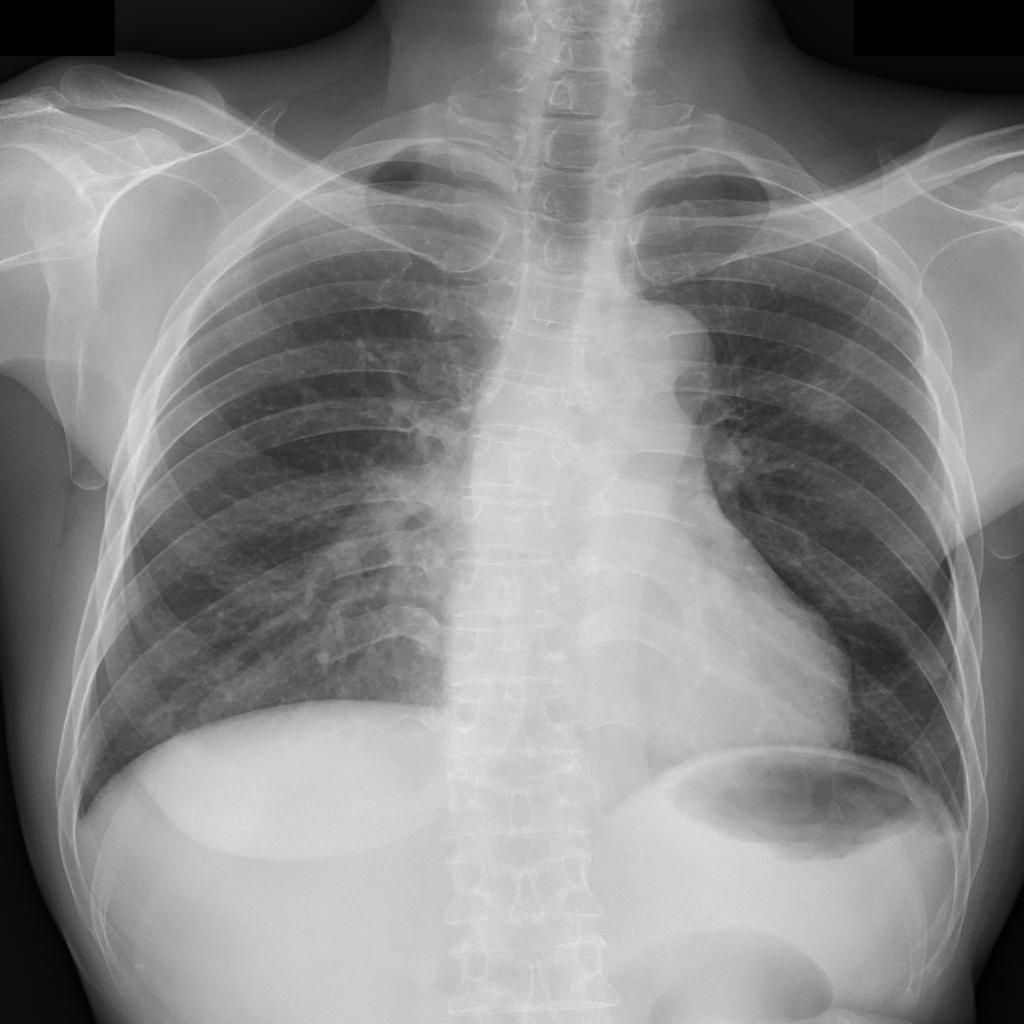Nodule: (794, 373, 864, 428)
